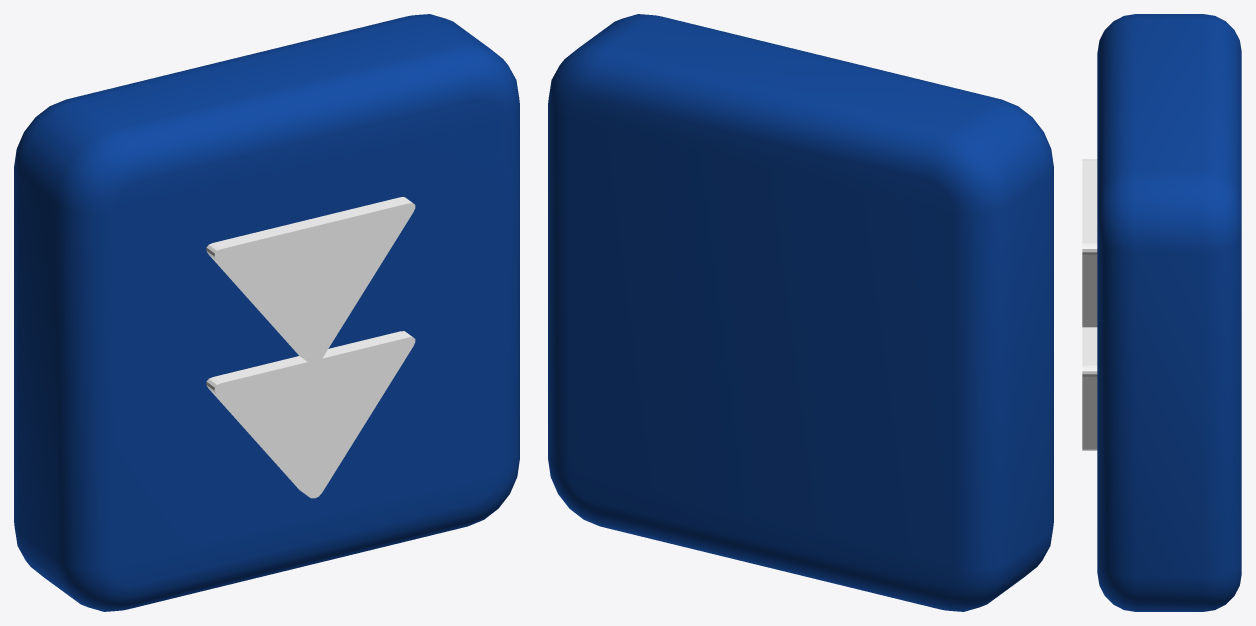
Rendered from fast_down_button.glb.
The picture shows the model from 3 angles, left to right: view 1: azimuth 30°, elevation 25°; view 2: azimuth 150°, elevation 25°; view 3: azimuth 270°, elevation 25°; orthographic projection. The views are drawn at different scales.
Visible parts, largest first — view 1: Cube.6429; view 2: Cube.6429; view 3: Cube.6429.
Boxes of the visible parts, bbox=[...] form: Cube.6429: bbox=[14, 14, 519, 611]; Cube.6429: bbox=[548, 14, 1053, 611]; Cube.6429: bbox=[1082, 14, 1241, 611].
Bounding box in the file's own units: 2.2 × 2.2 × 0.73.
1 material, 1 textured.
